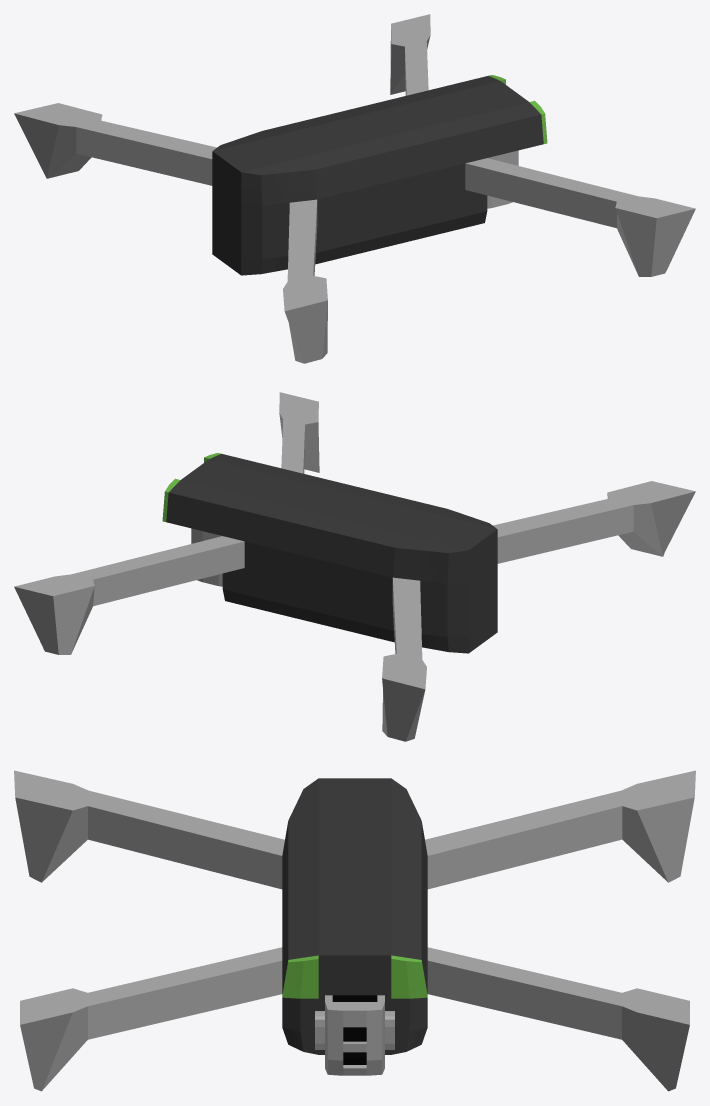
Rendered from drone.fbx.
3 views of the same model, one above another, from view 1: azimuth 30°, elevation 25°; view 2: azimuth 150°, elevation 25°; view 3: azimuth 270°, elevation 25° (orthographic). The views are drawn at different scales.
Parts seen in each view (by area): view 1: Cube; view 2: Cube; view 3: Cube.
Boxes of the visible parts, bbox=[...] form: Cube: bbox=[14, 14, 695, 363]; Cube: bbox=[14, 392, 695, 741]; Cube: bbox=[14, 770, 695, 1091].
Bounding box in the file's own units: 656 × 156 × 743.
